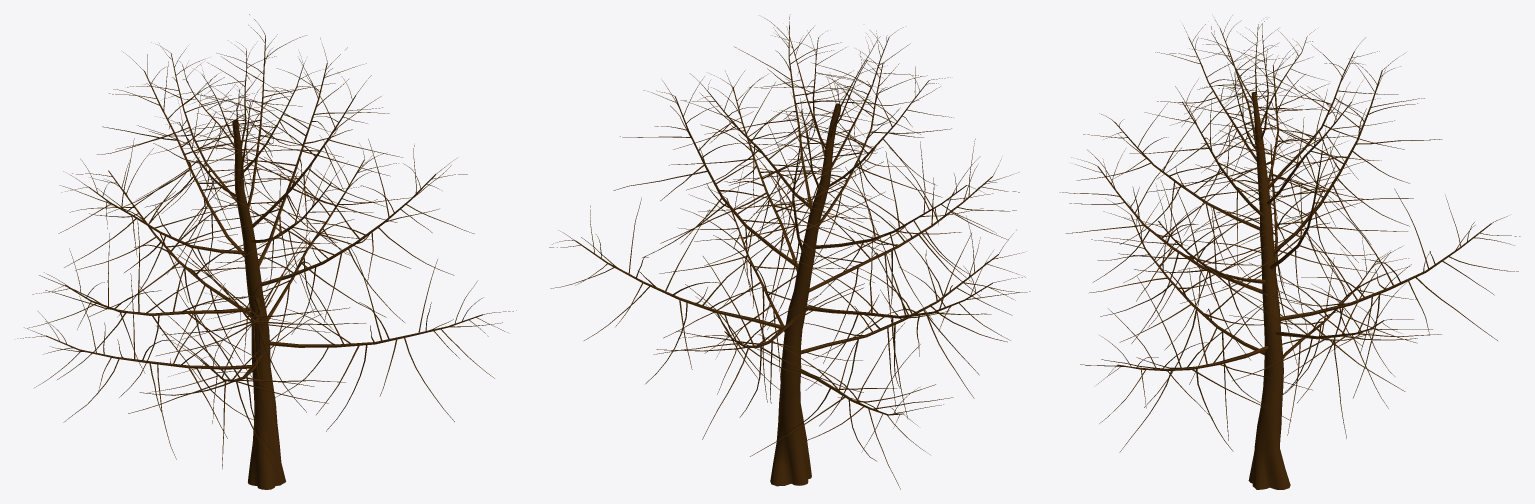
Rendered from Tree.FBX.
The picture shows the model from 3 angles, left to right: view 1: azimuth 30°, elevation 25°; view 2: azimuth 150°, elevation 25°; view 3: azimuth 270°, elevation 25°; orthographic projection.
Parts seen in each view (by area): view 1: Foliage001; view 2: Foliage001; view 3: Foliage001.
Boxes of the visible parts, x1,y1,x2,y2 form: Foliage001: (17, 14, 516, 489); Foliage001: (549, 14, 1030, 489); Foliage001: (1059, 15, 1520, 489).
Size of the model in its own units: 984 by 1030 by 962.
